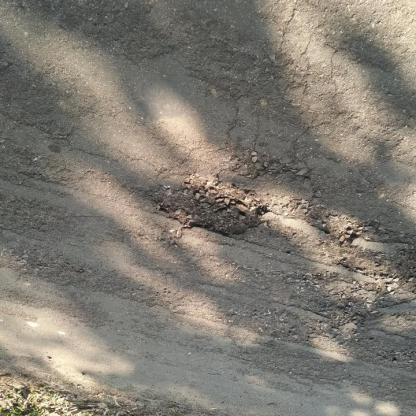pothole: (151, 180, 269, 241)
